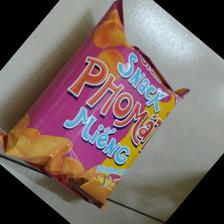Oishi_phomat: (1, 1, 193, 210)
